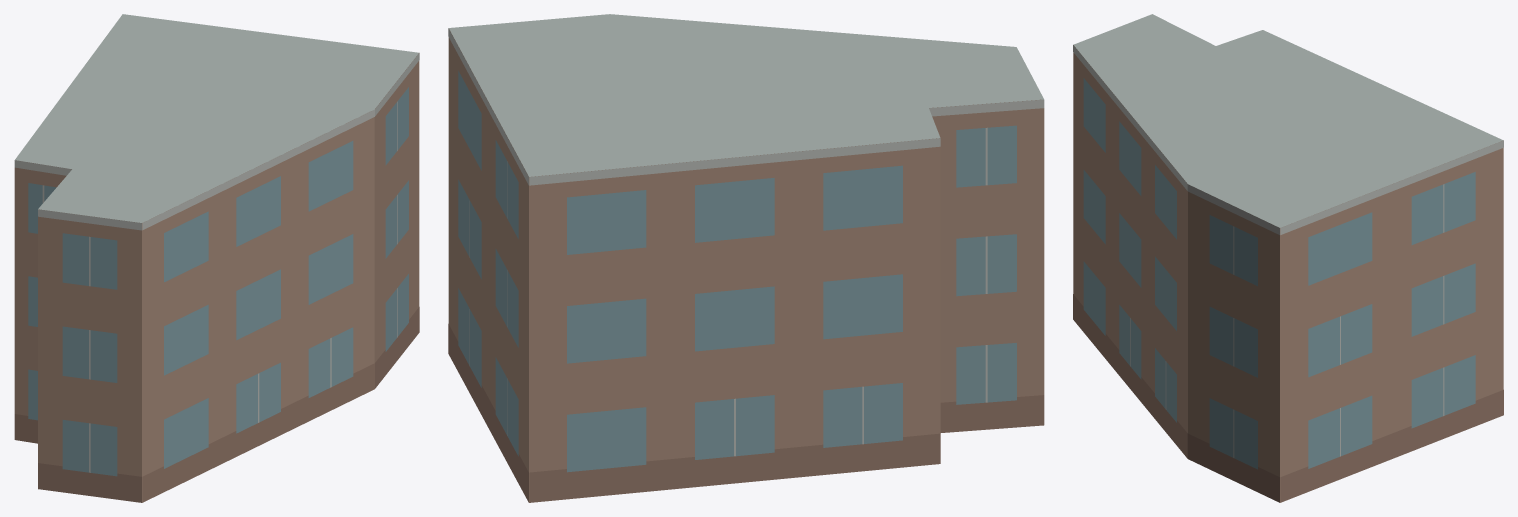
File: survey-upis-32917886.glb
The picture shows the model from 3 angles, left to right: view 1: azimuth 30°, elevation 25°; view 2: azimuth 150°, elevation 25°; view 3: azimuth 270°, elevation 25°; orthographic projection. The views are drawn at different scales.
Visible parts, largest first — view 1: survey-upis-32917886.tmp; view 2: survey-upis-32917886.tmp; view 3: survey-upis-32917886.tmp.
Part boxes in pixels (x1,y1,x2,y2): survey-upis-32917886.tmp: (14, 14, 419, 502); survey-upis-32917886.tmp: (448, 14, 1044, 502); survey-upis-32917886.tmp: (1073, 14, 1503, 502).
Bounding box in the file's own units: 15.29 × 9.15 × 12.99.
